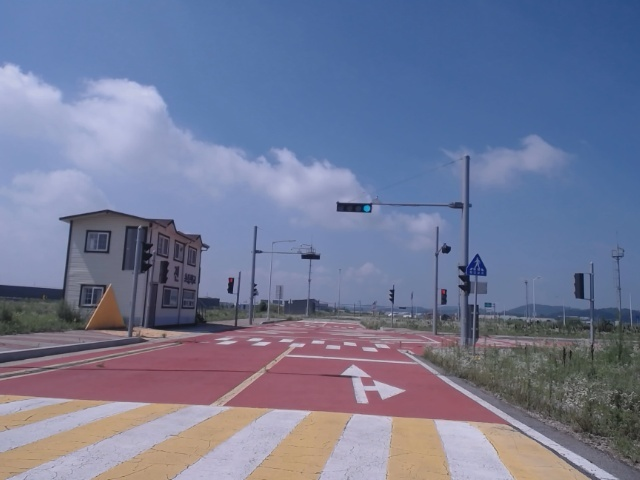straight_green_4: (337, 203, 372, 213)
